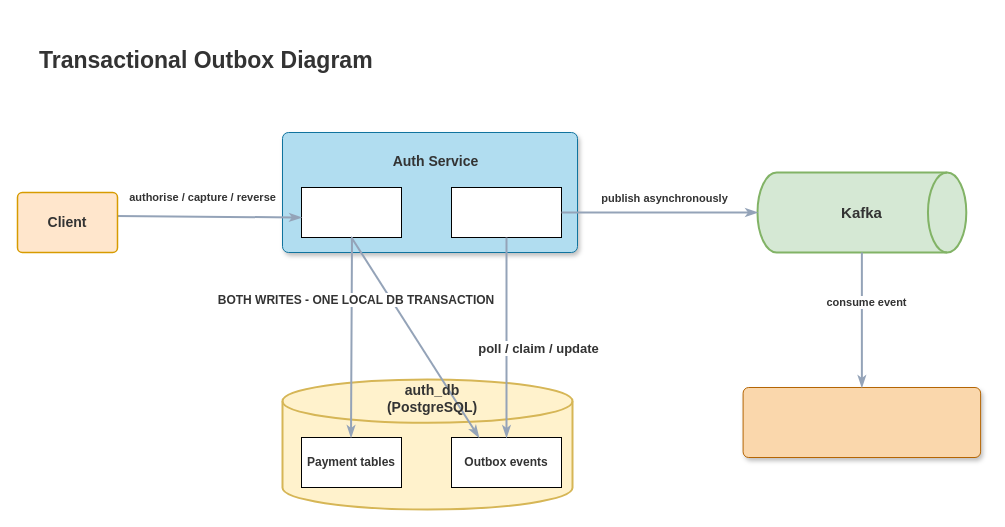
Some shapes in this 1005 by 527 pixel diagram are drawn without their labels. The centre of each missing label's shape, as x and y in pixels:
"Ledger Service" belongs at (x=862, y=423).
"Outbox Scheduler" belongs at (x=506, y=212).
"REST" belongs at (x=351, y=212).
